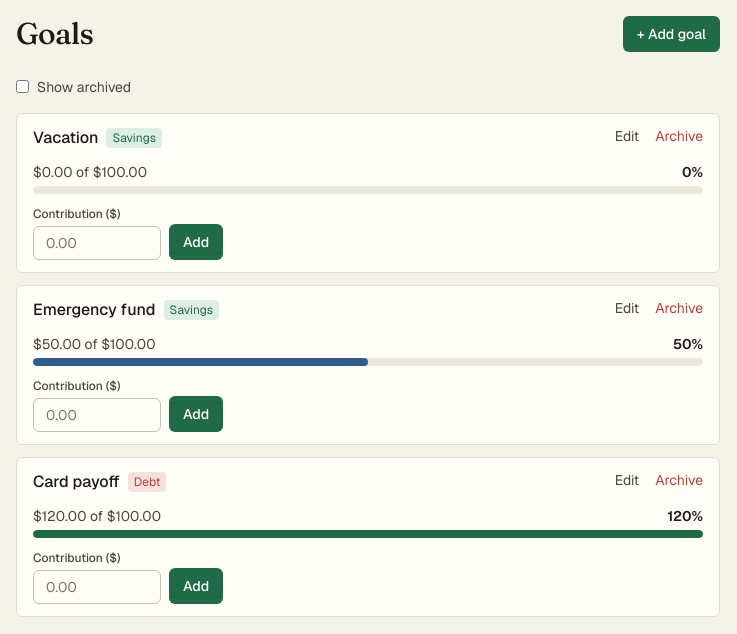
GoalsPage › posts a contribution and re-renders the card from the response
expect the element "Emergency fund" is shown: met, box [16, 284, 720, 444]
In the number field labelled "Contribution ($)" below "$50.00": (97, 414) [33, 398, 161, 432], type "25"
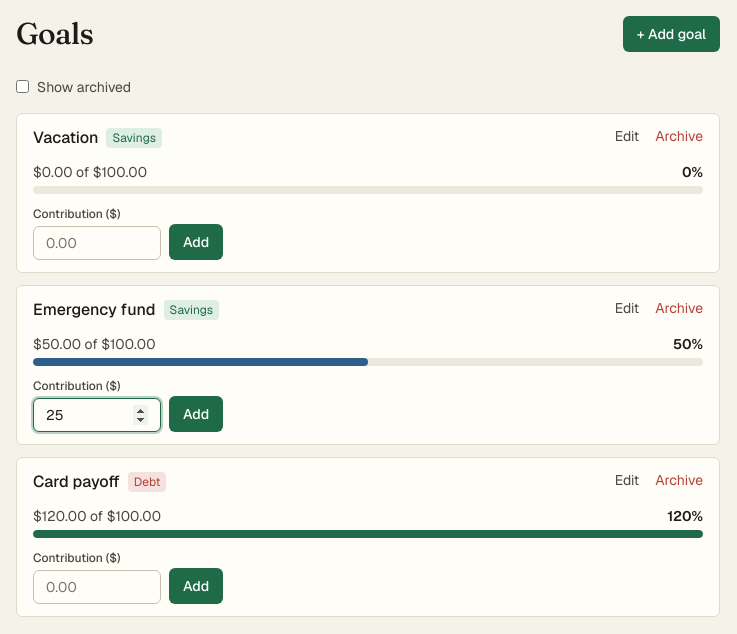
Click the button "Add" below "$50.00": (196, 414) [169, 396, 223, 432]
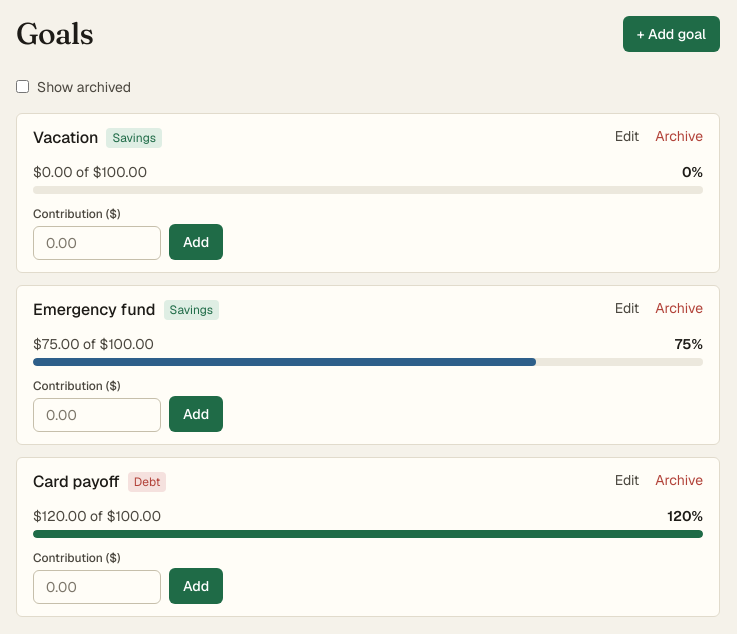
expect the text "75%" is shown: met, box [675, 334, 703, 354]
expect the text "$75.00 of $100.00" is shown: met, box [33, 334, 154, 354]
